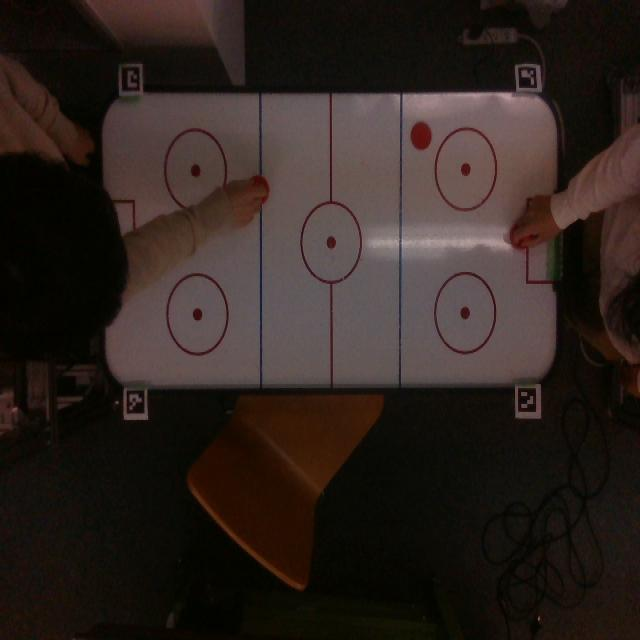puck: (411, 120, 432, 150)
